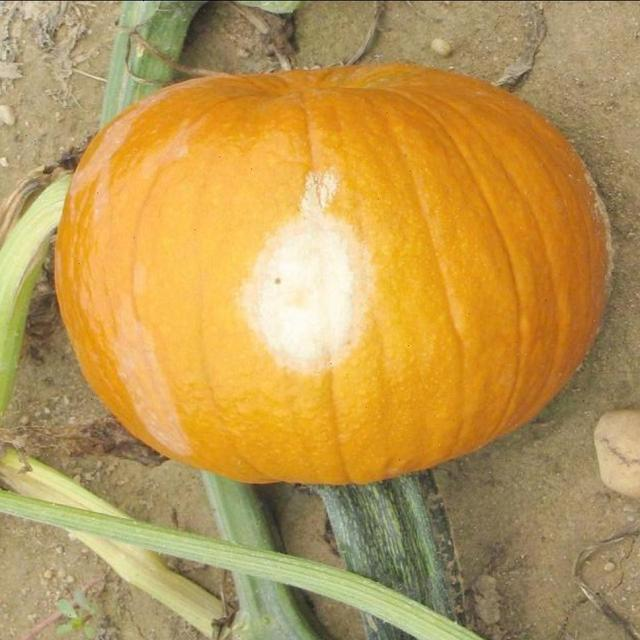Sunscald Fruit: (158, 107, 244, 270)
